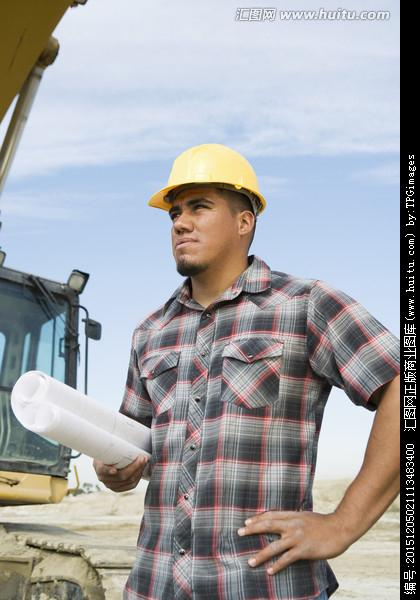helmet: (151, 141, 269, 216)
